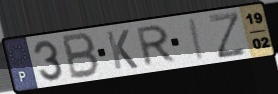3: (32, 39, 66, 83)
B: (61, 31, 101, 81)
I: (188, 17, 206, 62)
K: (104, 28, 140, 72)
R: (135, 23, 179, 69)
Z: (206, 9, 249, 61)
